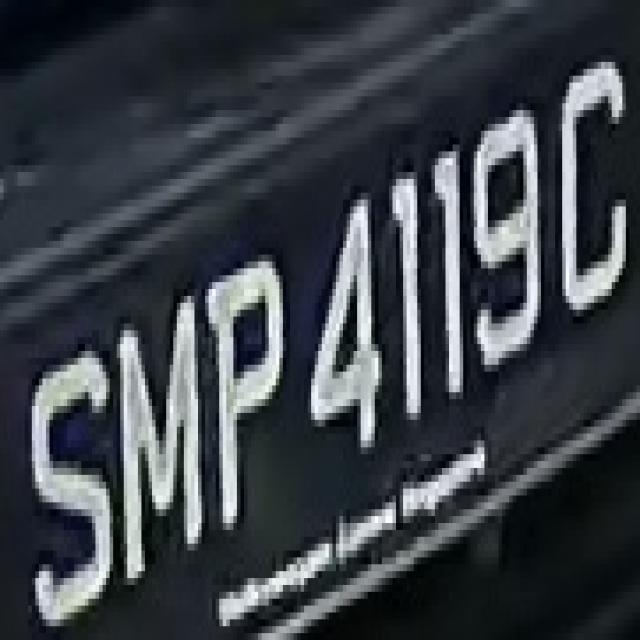1: (382, 138, 431, 468), (424, 138, 478, 434)
4: (290, 172, 392, 461)
9: (463, 103, 552, 379)
C: (544, 34, 636, 330)
M: (117, 282, 205, 599)
P: (212, 241, 287, 550)
S: (18, 330, 113, 640)
